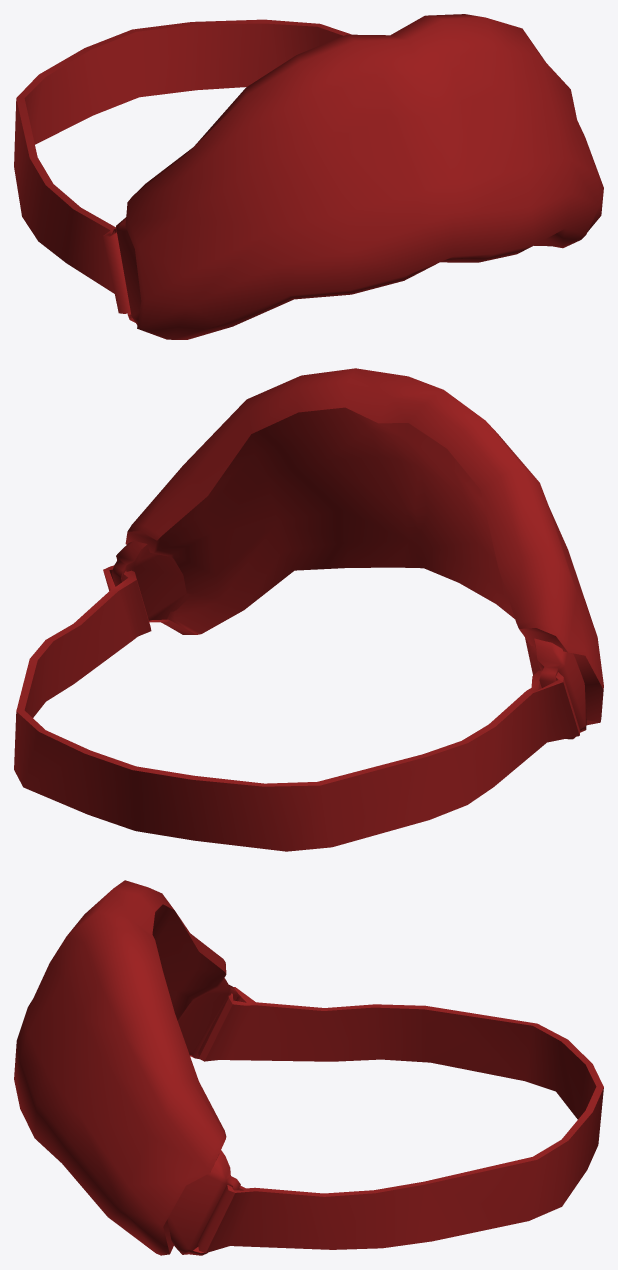
File: W_SET_Goggles.FBX
3 views of the same model, one above another, from view 1: azimuth 30°, elevation 25°; view 2: azimuth 150°, elevation 25°; view 3: azimuth 270°, elevation 25° (orthographic). The views are drawn at different scales.
Parts seen in each view (by area): view 1: Object058; view 2: Object058; view 3: Object058.
Part boxes in pixels (box(x1,y1,x2,y2)): Object058: box(14, 14, 603, 339); Object058: box(14, 368, 603, 851); Object058: box(14, 880, 603, 1255).
Bounding box in the file's own units: 15.01 × 8.74 × 18.05.
